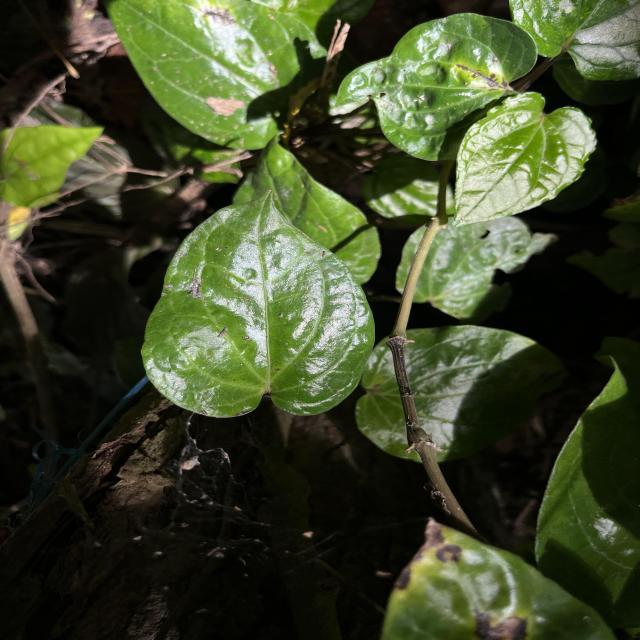Piper betle: (138, 186, 378, 420)
